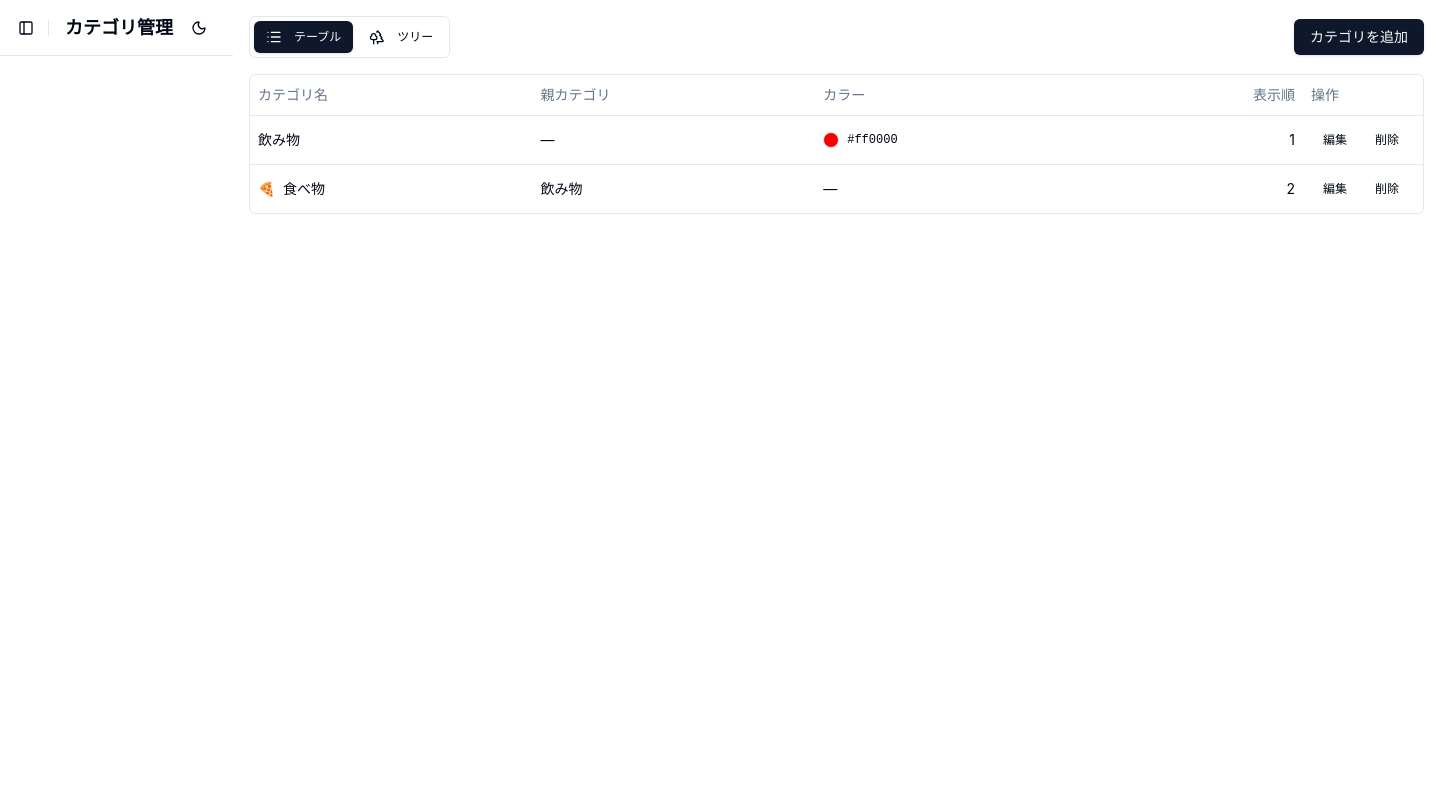
Test case: CategoriesPage › カテゴリを追加ボタンでダイアログが開く
The image size is (1440, 810).
Click the button "カテゴリを追加": x=1359, y=37 x1=1294 y1=19 x2=1424 y2=55
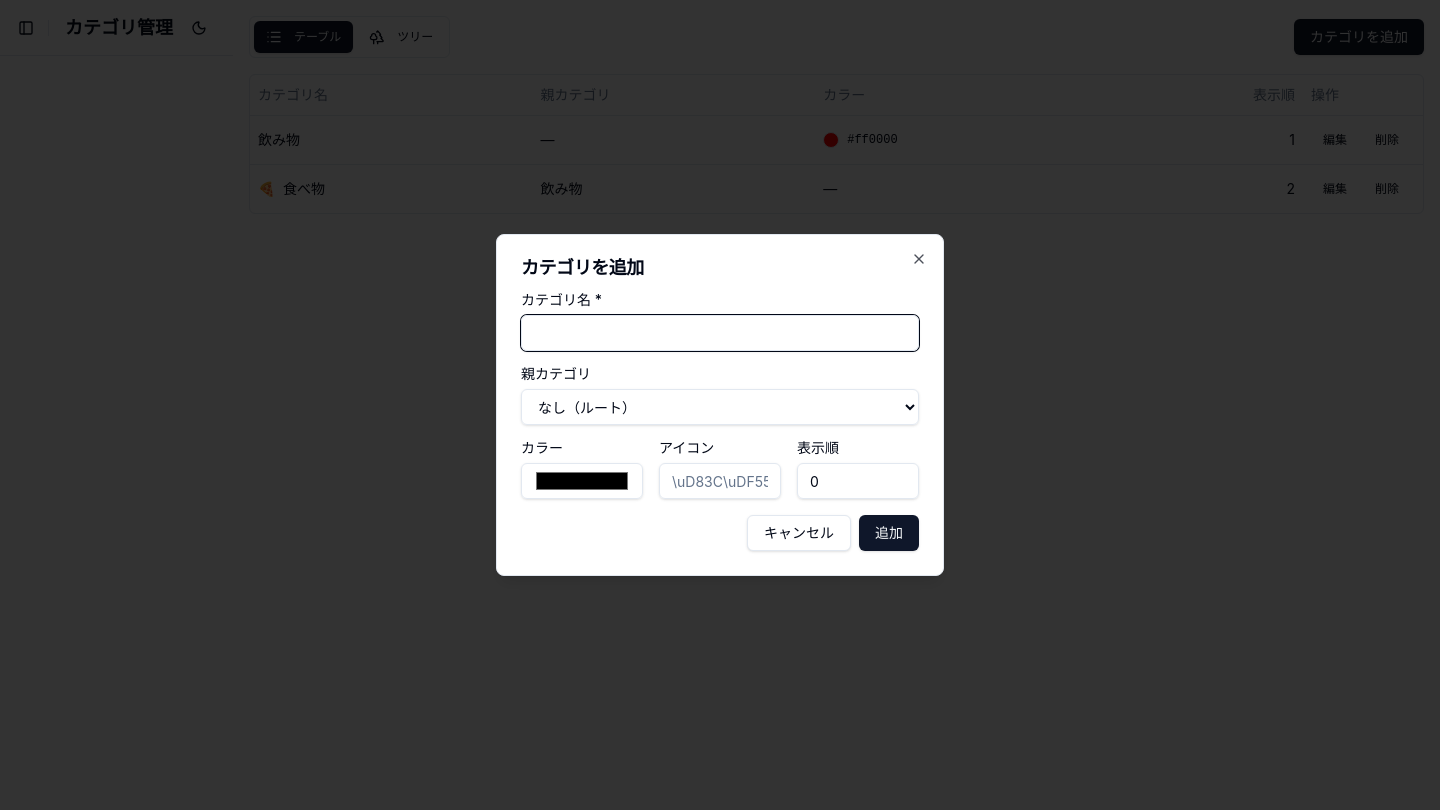
Now the heading "カテゴリを追加" is shown, box x1=521 y1=257 x2=644 y2=278
